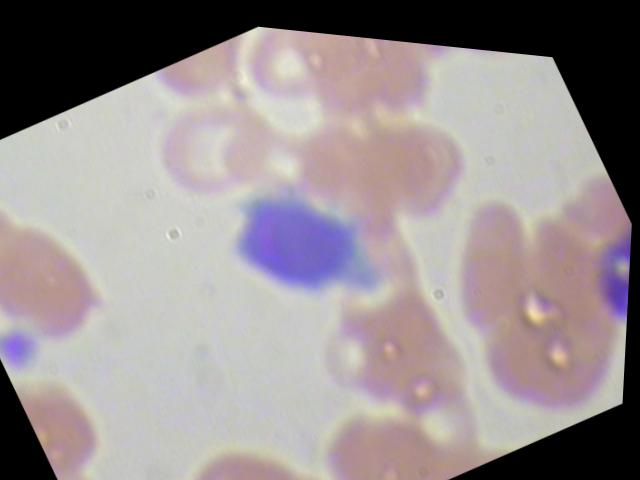Platelets: (0, 315, 56, 384)
White Blood Cells: (185, 138, 398, 352)
